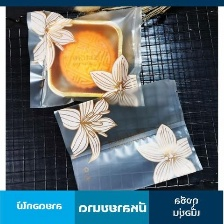snack: (48, 72, 208, 189), (20, 5, 150, 111)
